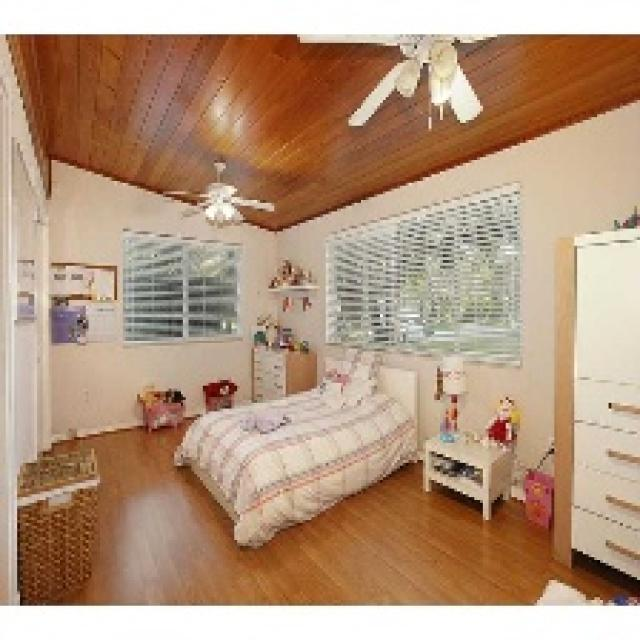Bed: (171, 363, 420, 548)
